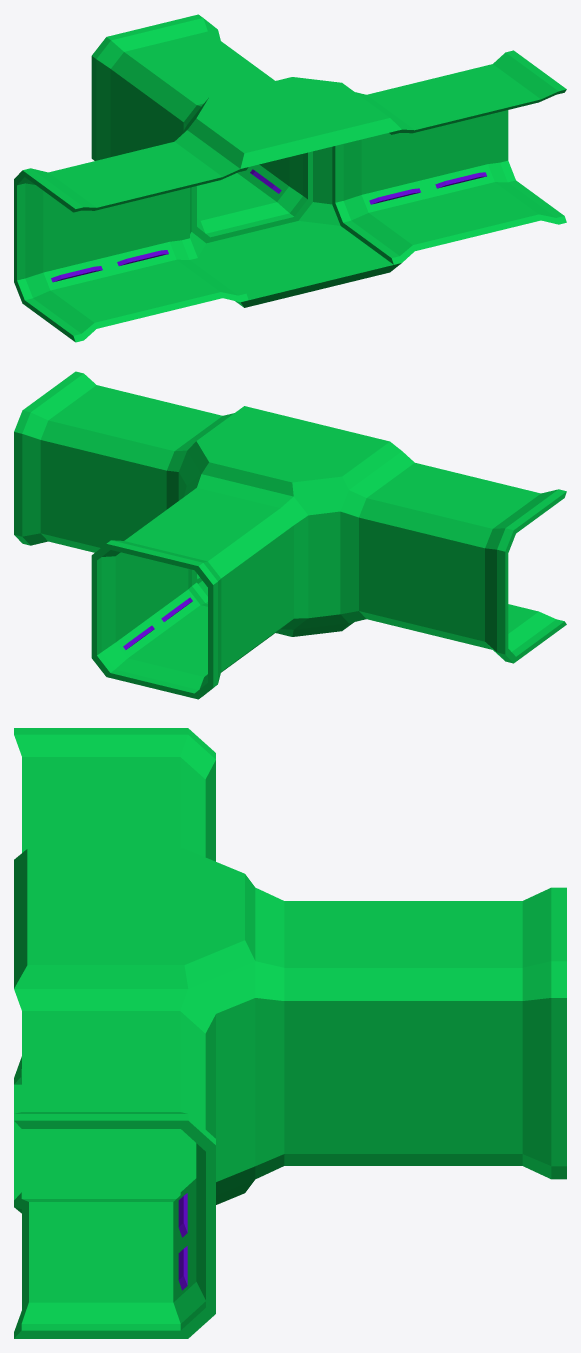
The model's file is HallSegment_TIntersection.fbx.
The picture shows the model from 3 angles, top to bottom: view 1: azimuth 30°, elevation 25°; view 2: azimuth 150°, elevation 25°; view 3: azimuth 270°, elevation 25°; orthographic projection. The views are drawn at different scales.
Parts seen in each view (by area): view 1: Cube; view 2: Cube; view 3: Cube.
Part boxes in pixels (x1=…): Cube: x1=14, y1=14, x2=566, y2=342; Cube: x1=14, y1=371, x2=566, y2=699; Cube: x1=14, y1=728, x2=566, y2=1338.
Bounding box in the file's own units: 1191 × 358 × 709.
